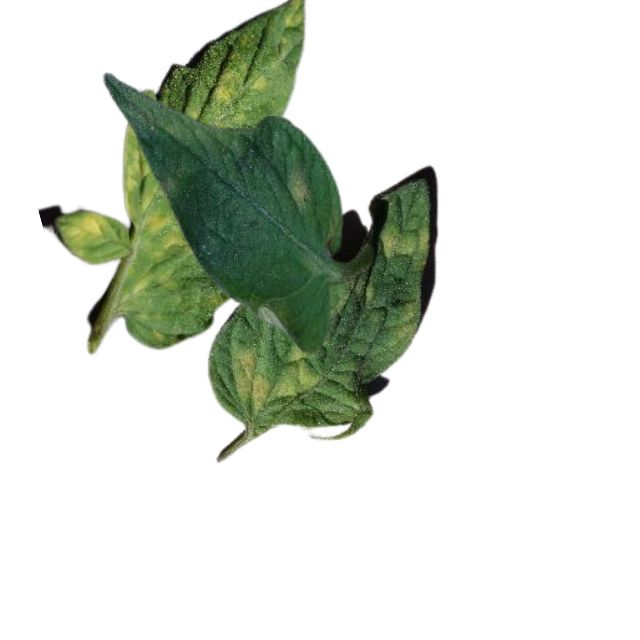Leaf_Mold: (122, 129, 188, 306), (230, 340, 320, 414), (210, 58, 266, 109), (56, 211, 110, 255), (378, 224, 429, 258), (393, 300, 417, 346), (277, 1, 306, 32), (288, 176, 311, 214)
